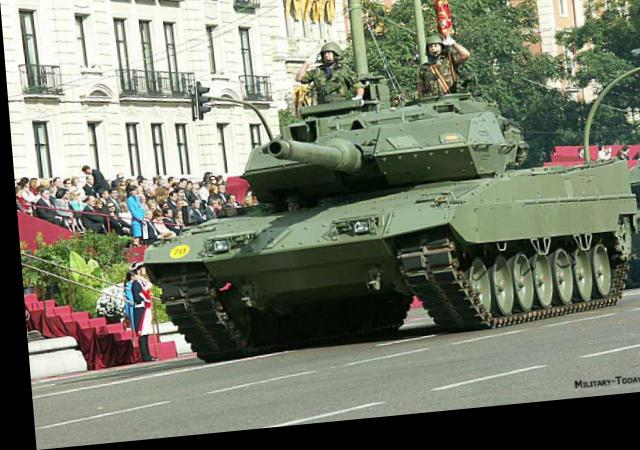tank: (149, 91, 640, 373), (273, 39, 362, 117)
